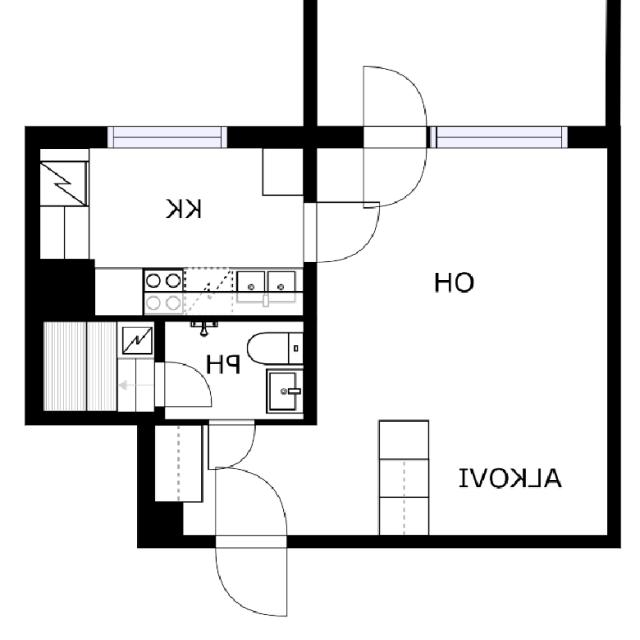door: (215, 534, 286, 616), (215, 466, 286, 547), (363, 125, 426, 208), (363, 66, 426, 147), (303, 202, 380, 262), (155, 362, 212, 407), (208, 419, 256, 470)
